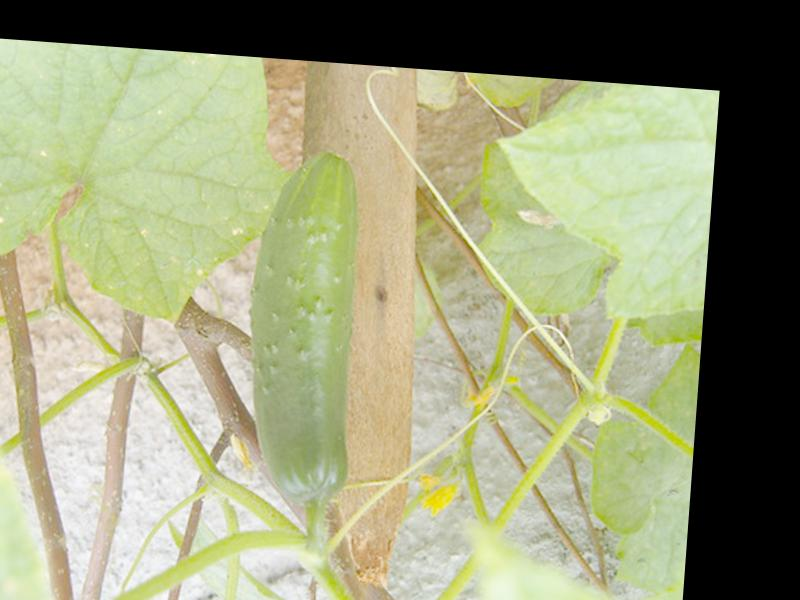Cucumber: (236, 146, 372, 509)
